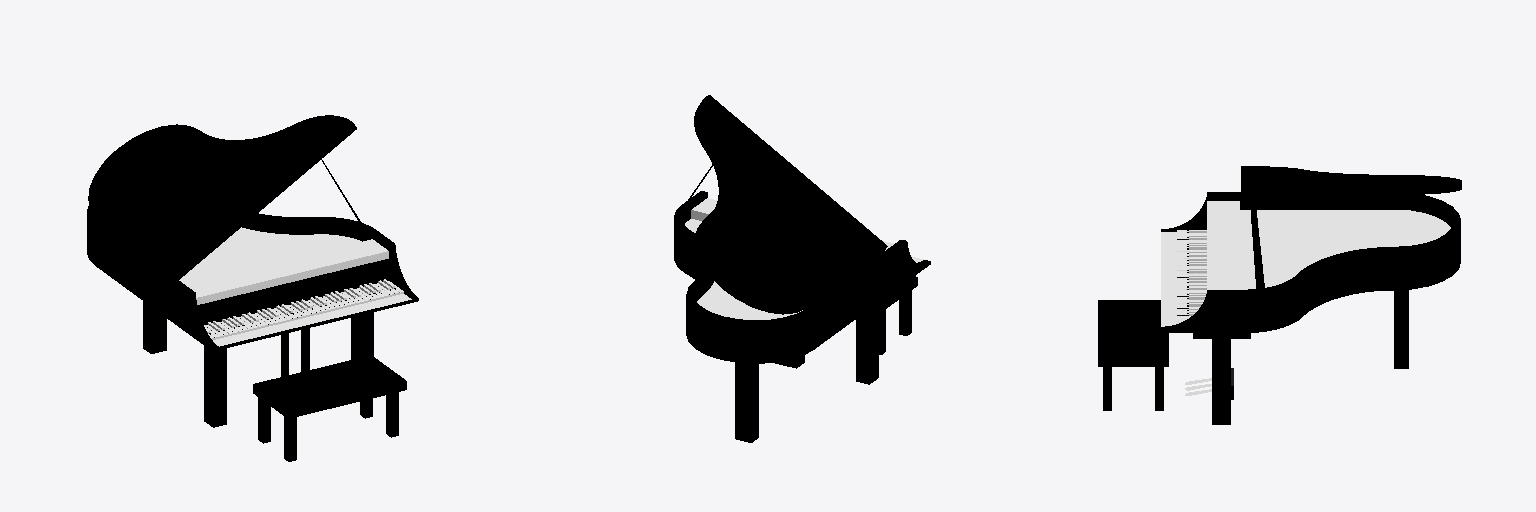
The picture shows the model from 3 angles: view 1: azimuth 30°, elevation 25°; view 2: azimuth 150°, elevation 25°; view 3: azimuth 270°, elevation 25°; orthographic projection.
Parts seen in each view (by area): view 1: Mesh5 Group1 Untitled1978_01_06_10_55_20__0700_1 Model, Mesh1 Group2 Group1 Untitled1978_01_06_10_55_20__0700_1 Model, Mesh8 Group3 Untitled1978_01_06_10_55_20__0700_1 Model, Mesh6 Group1 Untitled1978_01_06_10_55_20__0700_1 Model; view 2: Mesh1 Group2 Group1 Untitled1978_01_06_10_55_20__0700_1 Model, Mesh5 Group1 Untitled1978_01_06_10_55_20__0700_1 Model, Mesh8 Group3 Untitled1978_01_06_10_55_20__0700_1 Model; view 3: Mesh5 Group1 Untitled1978_01_06_10_55_20__0700_1 Model, Mesh8 Group3 Untitled1978_01_06_10_55_20__0700_1 Model, Mesh1 Group2 Group1 Untitled1978_01_06_10_55_20__0700_1 Model, Mesh7 Group1 Untitled1978_01_06_10_55_20__0700_1 Model.
Boxes of the visible parts, x1=… form: Mesh5 Group1 Untitled1978_01_06_10_55_20__0700_1 Model: x1=87, y1=205, x2=418, y2=427; Mesh1 Group2 Group1 Untitled1978_01_06_10_55_20__0700_1 Model: x1=88, y1=115, x2=356, y2=279; Mesh8 Group3 Untitled1978_01_06_10_55_20__0700_1 Model: x1=253, y1=355, x2=406, y2=461; Mesh6 Group1 Untitled1978_01_06_10_55_20__0700_1 Model: x1=281, y1=328, x2=309, y2=376; Mesh1 Group2 Group1 Untitled1978_01_06_10_55_20__0700_1 Model: x1=694, y1=95, x2=887, y2=314; Mesh5 Group1 Untitled1978_01_06_10_55_20__0700_1 Model: x1=674, y1=191, x2=930, y2=442; Mesh8 Group3 Untitled1978_01_06_10_55_20__0700_1 Model: x1=879, y1=276, x2=917, y2=354; Mesh5 Group1 Untitled1978_01_06_10_55_20__0700_1 Model: x1=1161, y1=192, x2=1460, y2=424; Mesh8 Group3 Untitled1978_01_06_10_55_20__0700_1 Model: x1=1098, y1=300, x2=1168, y2=410; Mesh1 Group2 Group1 Untitled1978_01_06_10_55_20__0700_1 Model: x1=1241, y1=166, x2=1461, y2=194; Mesh7 Group1 Untitled1978_01_06_10_55_20__0700_1 Model: x1=1248, y1=178, x2=1264, y2=288.
Bounding box in the file's own units: 0.9179 × 1.09 × 1.4.
Materials: 4 (1 with a texture image).